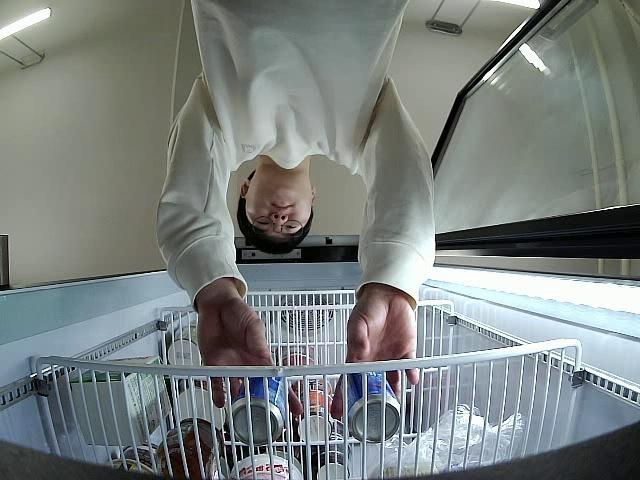15_letsbe: (339, 371, 400, 442), (230, 376, 287, 446)
